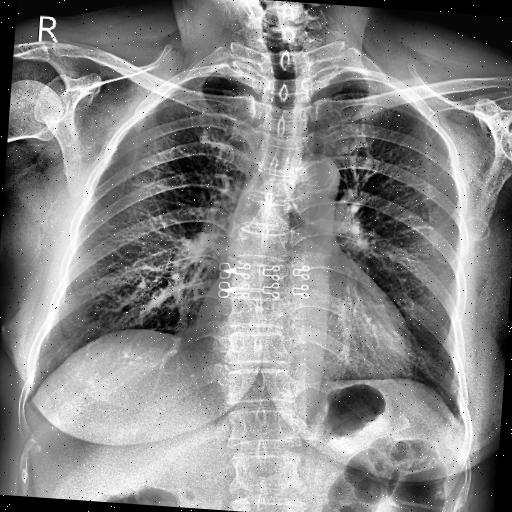0- Aortic enlargement: (283, 152, 340, 214), (280, 149, 340, 199), (287, 150, 342, 196)
3- Cardiomegaly: (187, 300, 416, 390), (190, 292, 418, 379), (191, 306, 417, 374)
